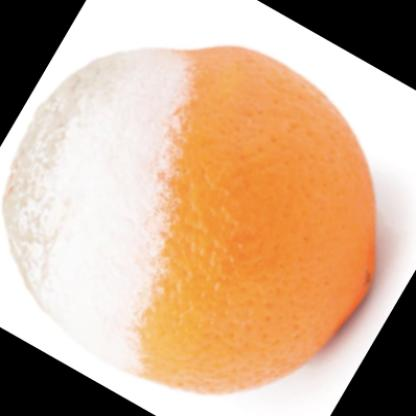rotten: (11, 45, 375, 391)
